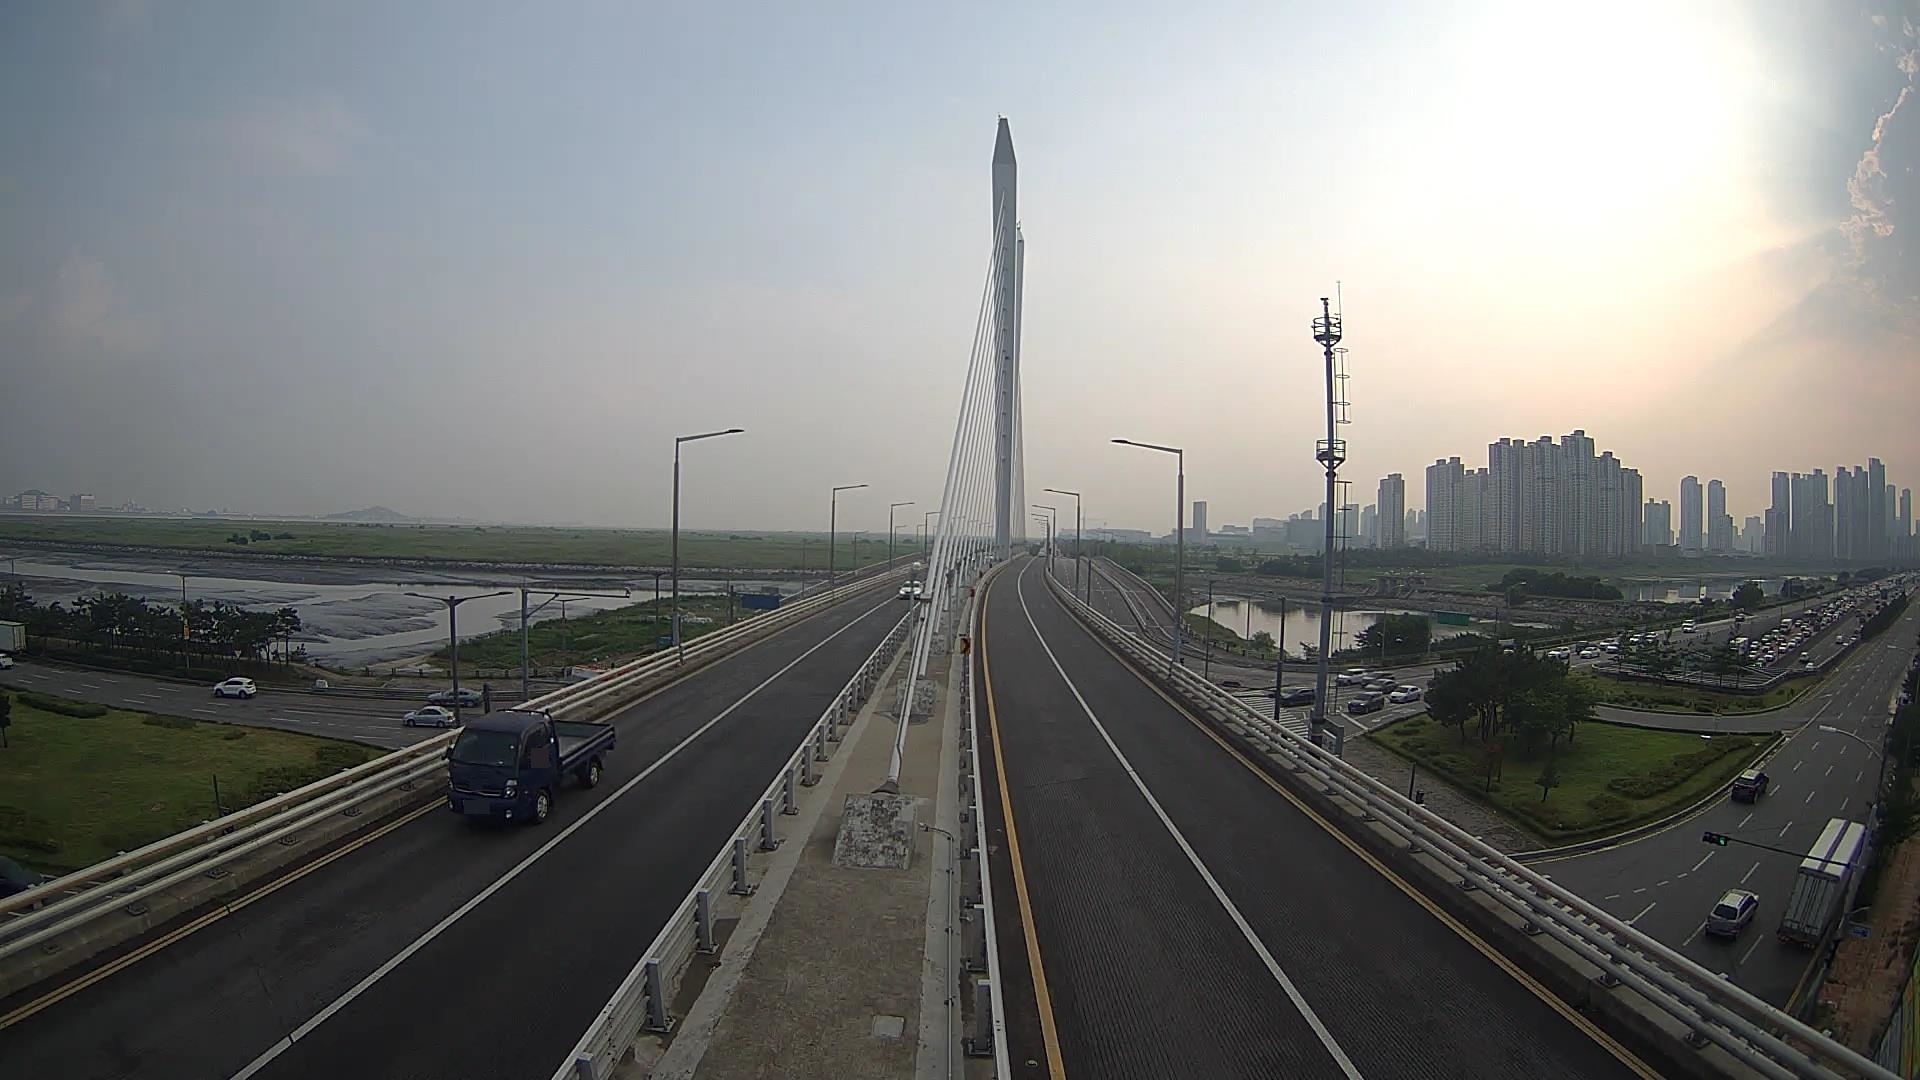정상차량: (442, 708, 617, 824)
